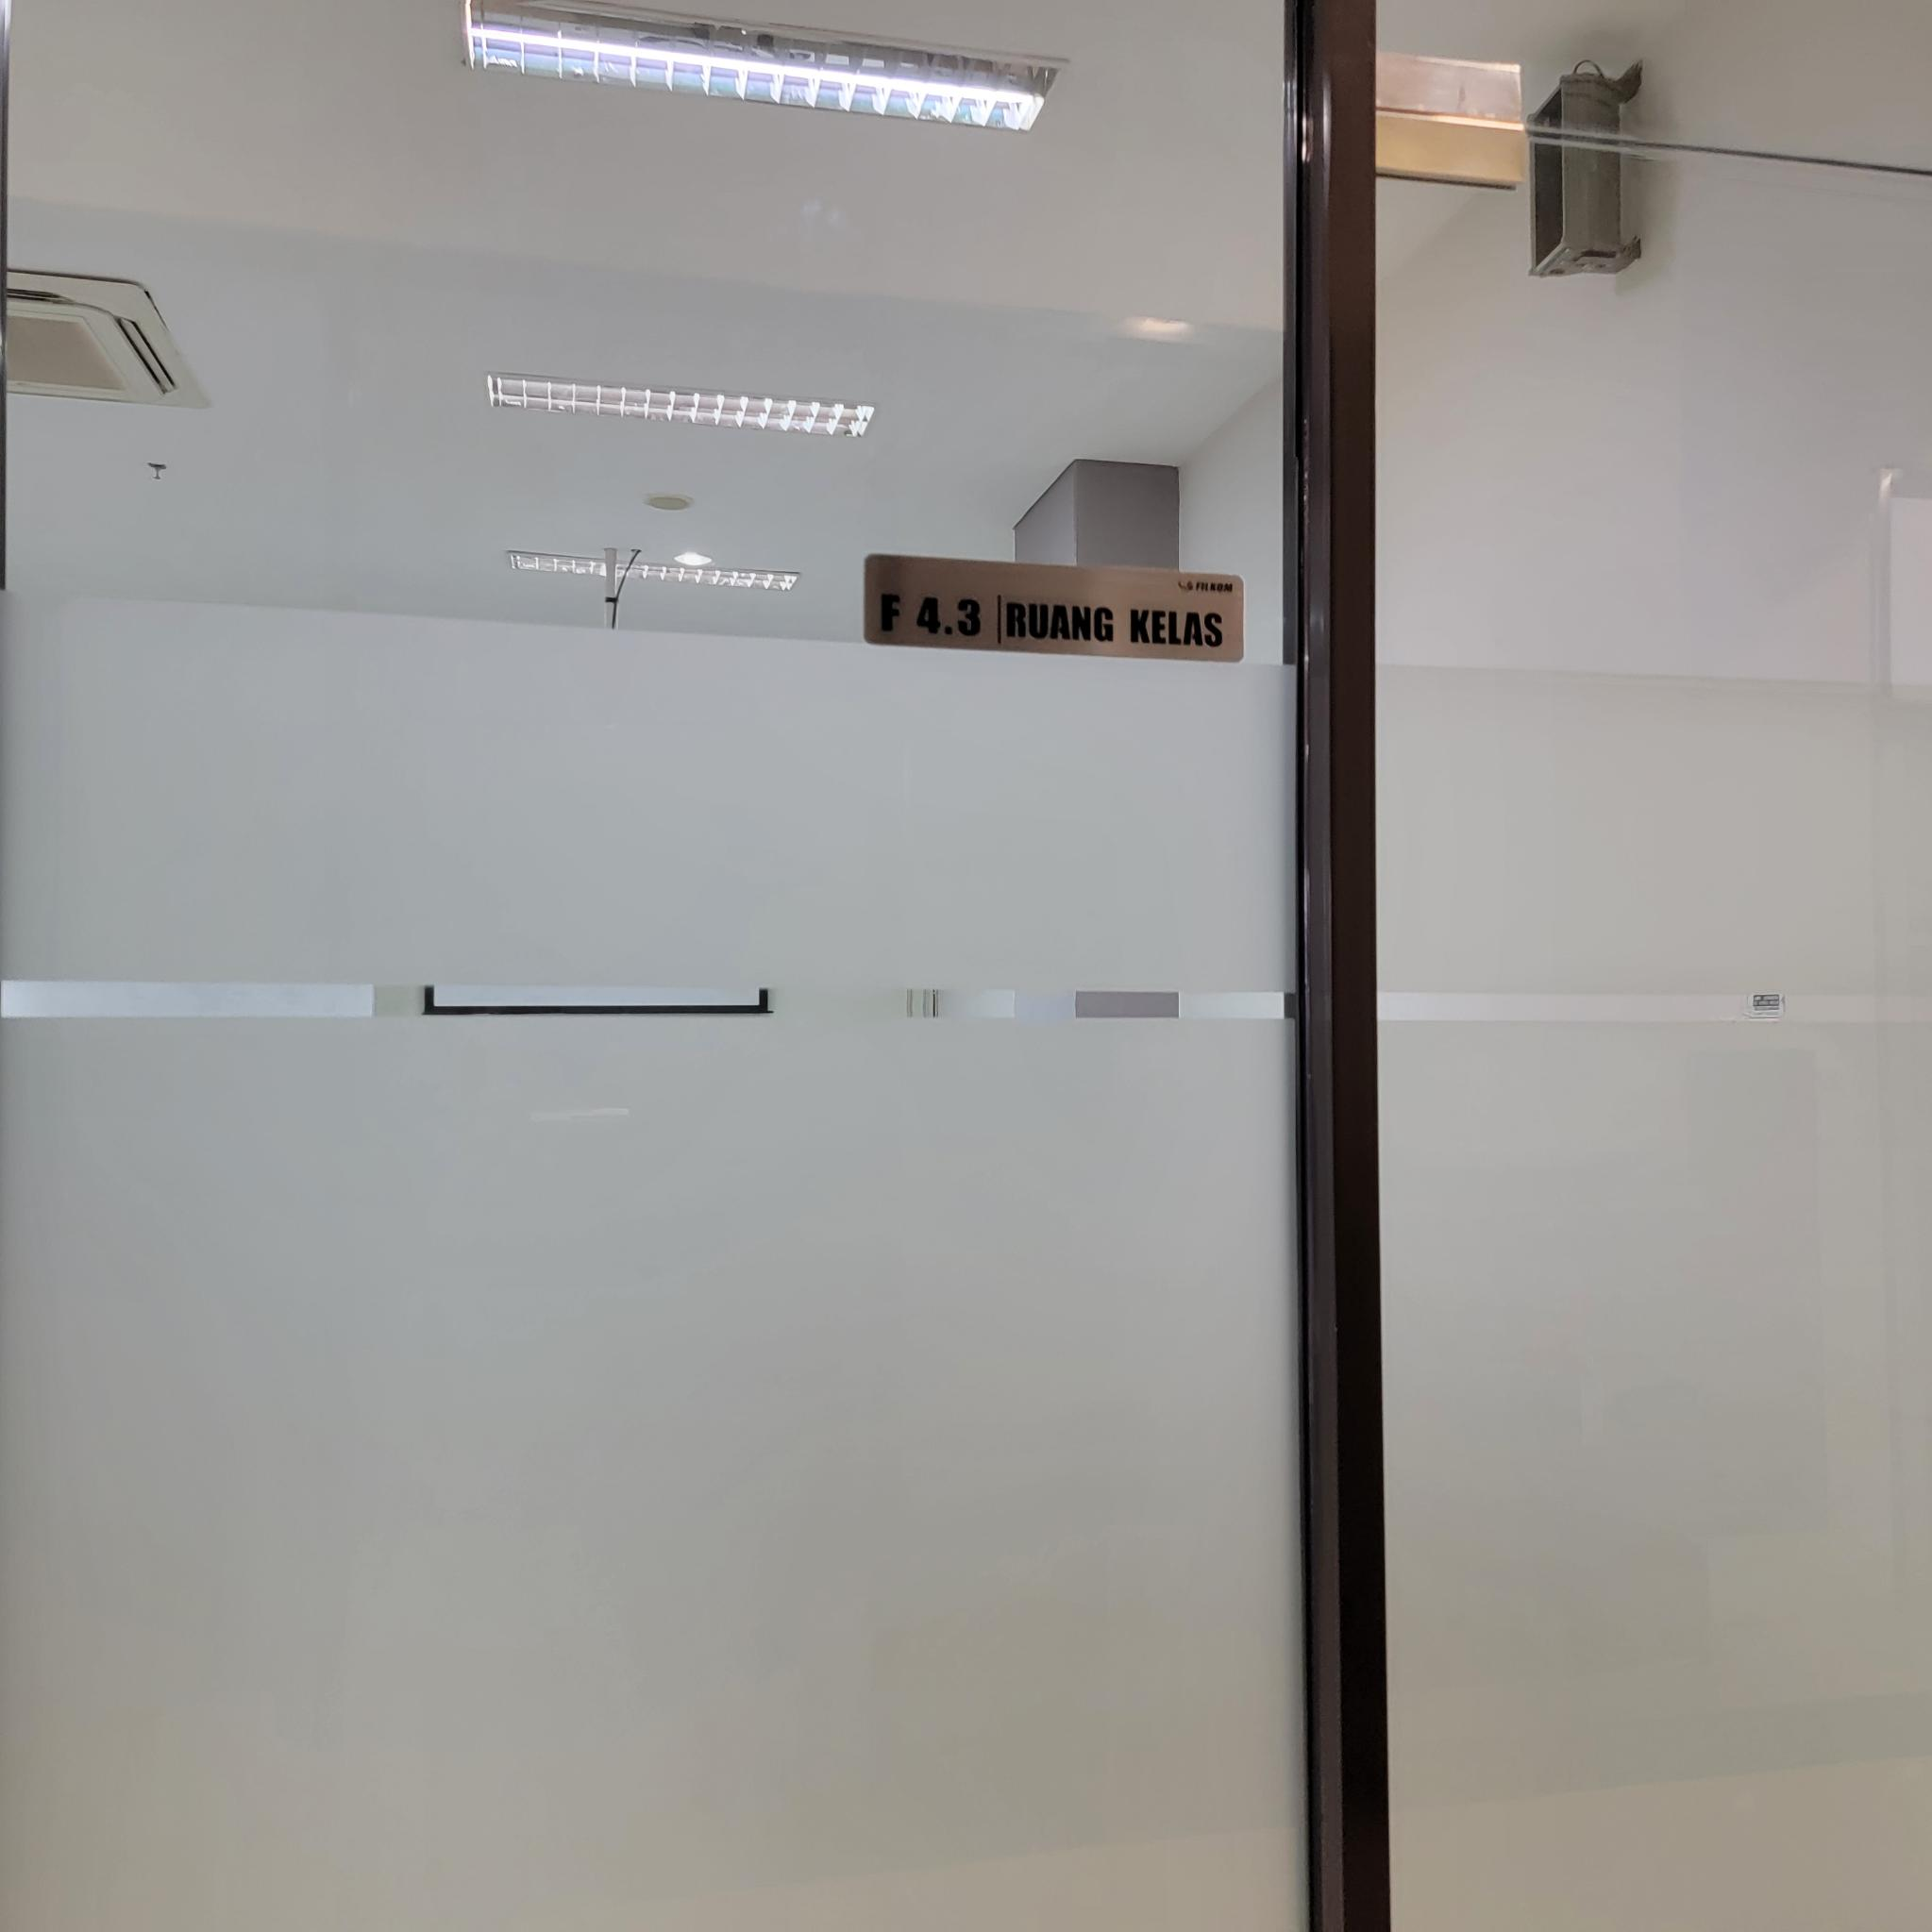plate: (865, 550, 1246, 663)
